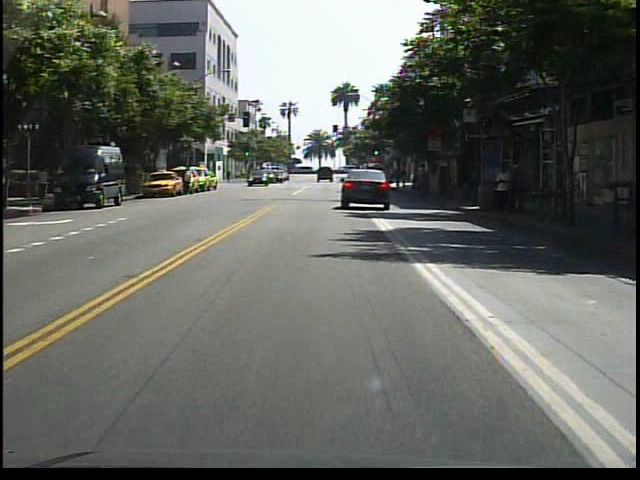person: (490, 158, 518, 220), (180, 162, 196, 198)
